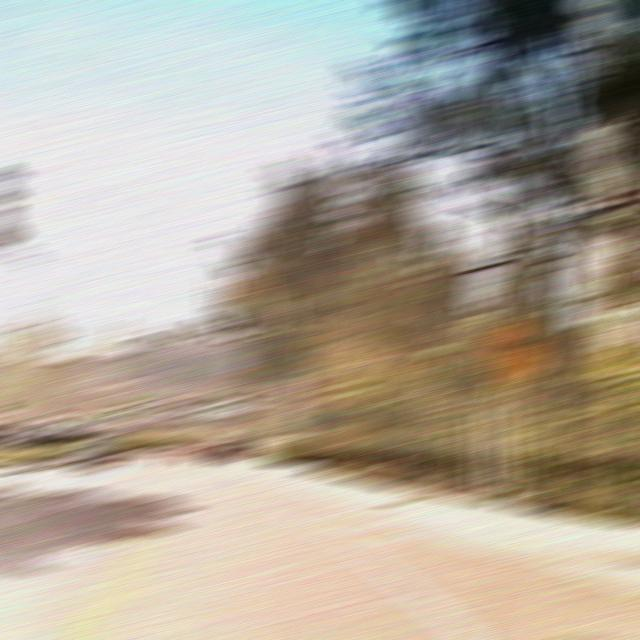stop: (298, 391, 328, 413)
